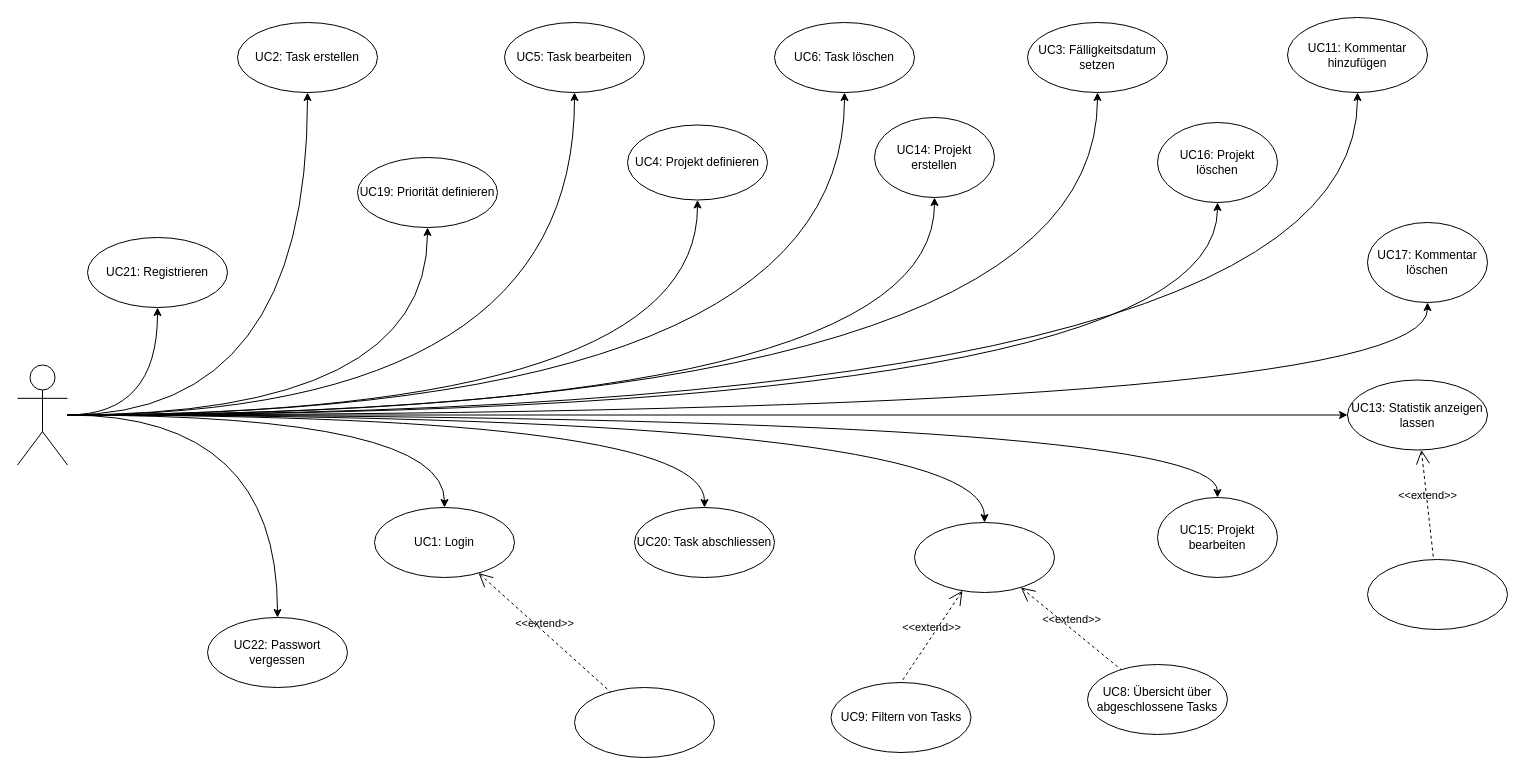
Image size: 1525x775. Some labels were removed from this diagram. The shapes that lost their labels are listed below. From the top down, each one's centre as x and y in pixels, then its label:
At (42,414): "User".
At (984,557): "UC7: Übersicht über Tasks".
At (1437,594): "UC12: Anzeigen von Karma".
At (644,722): "UC18: Logout".
